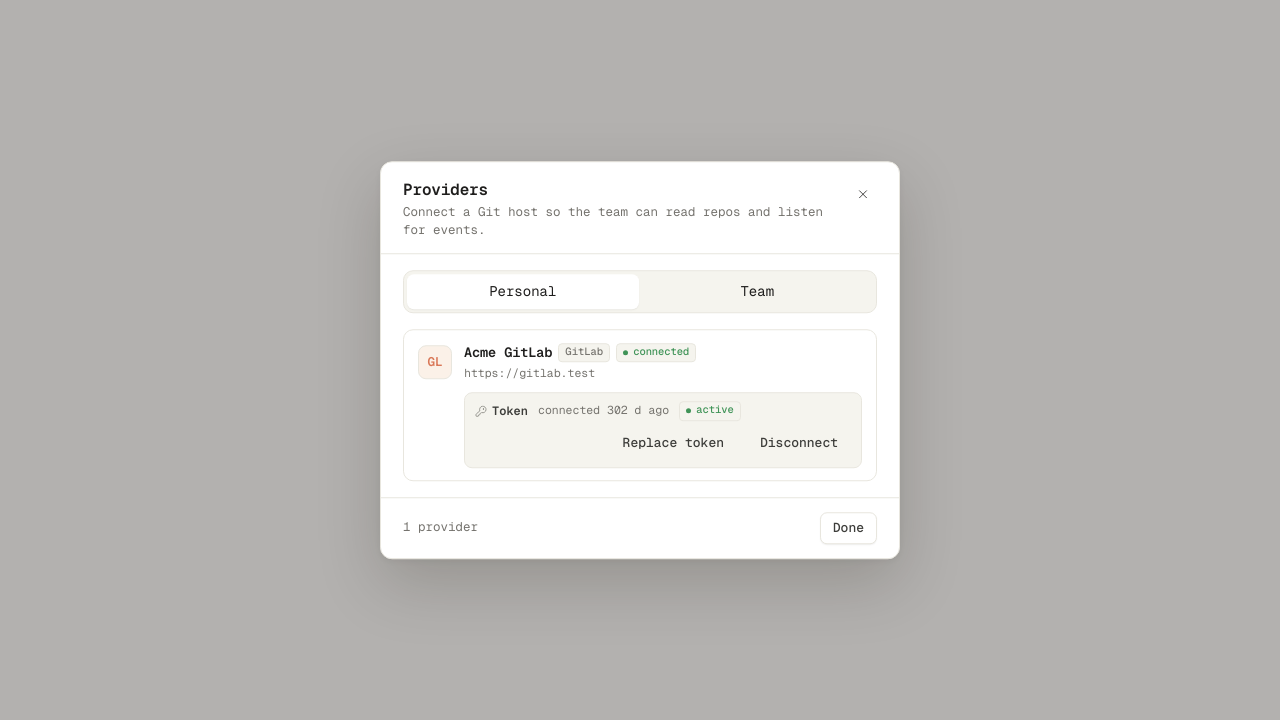
Test case: connect remote modal credential controls › lets a Viewer disconnect their own credential but offers no revoke on a team token
Check: the button "Disconnect" is shown, box 747,427 -> 851,459
Click the tab "Team": click(757, 292) 642,274 -> 873,310
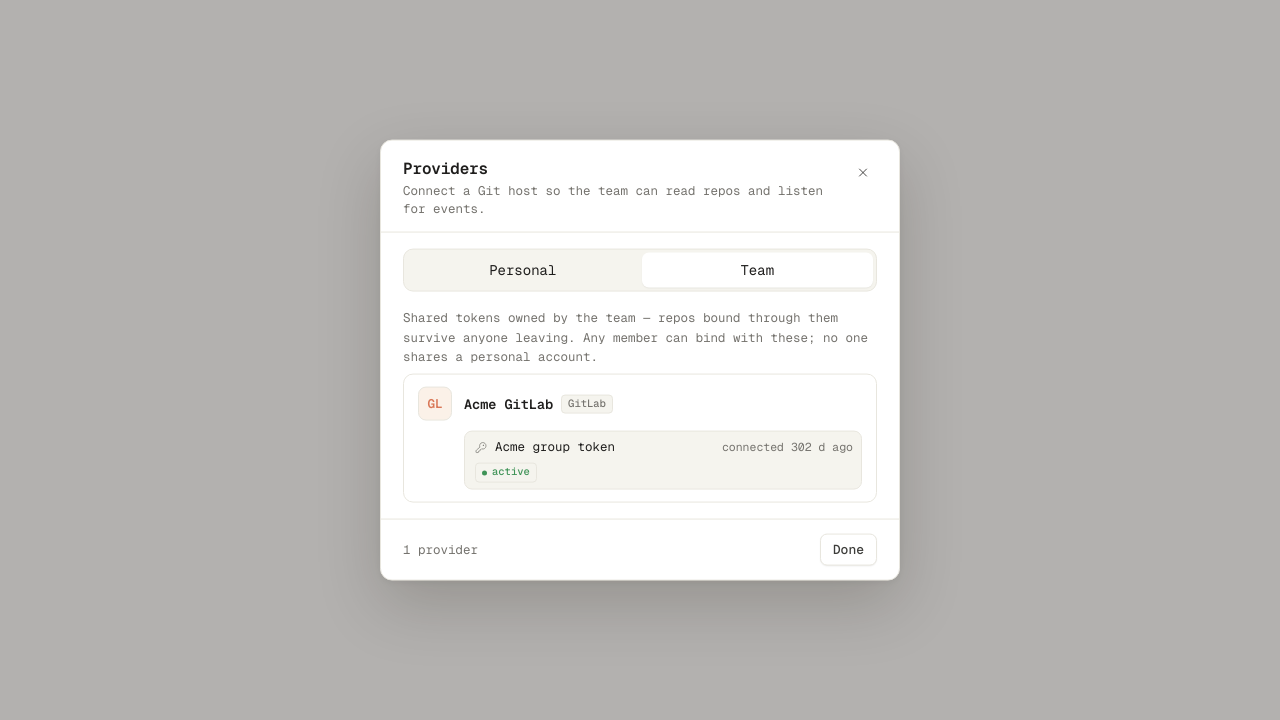
Check: the text "Acme group token" is shown, box 495,438 -> 615,455
